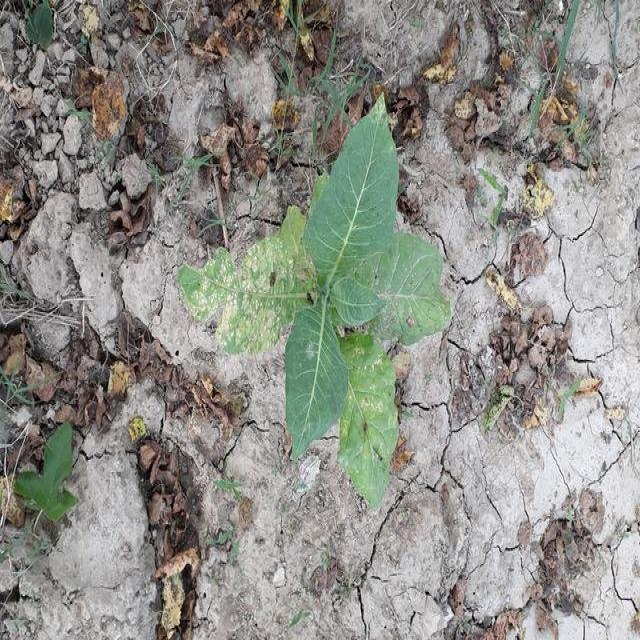crop: (186, 116, 459, 508)
